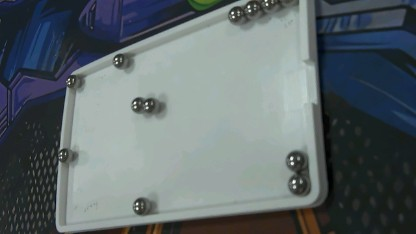ironball: (286, 174, 314, 198), (280, 150, 310, 169), (240, 2, 265, 23), (59, 71, 85, 91), (128, 195, 154, 214), (126, 93, 146, 114), (260, 0, 284, 17), (53, 148, 78, 164), (110, 52, 131, 70), (225, 5, 243, 26), (141, 96, 157, 112)
